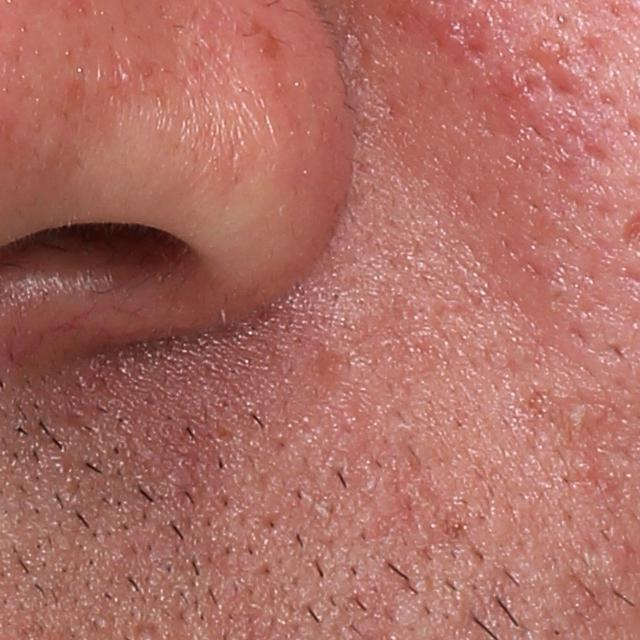atrophic_scar: (515, 42, 580, 104), (580, 136, 609, 168)
